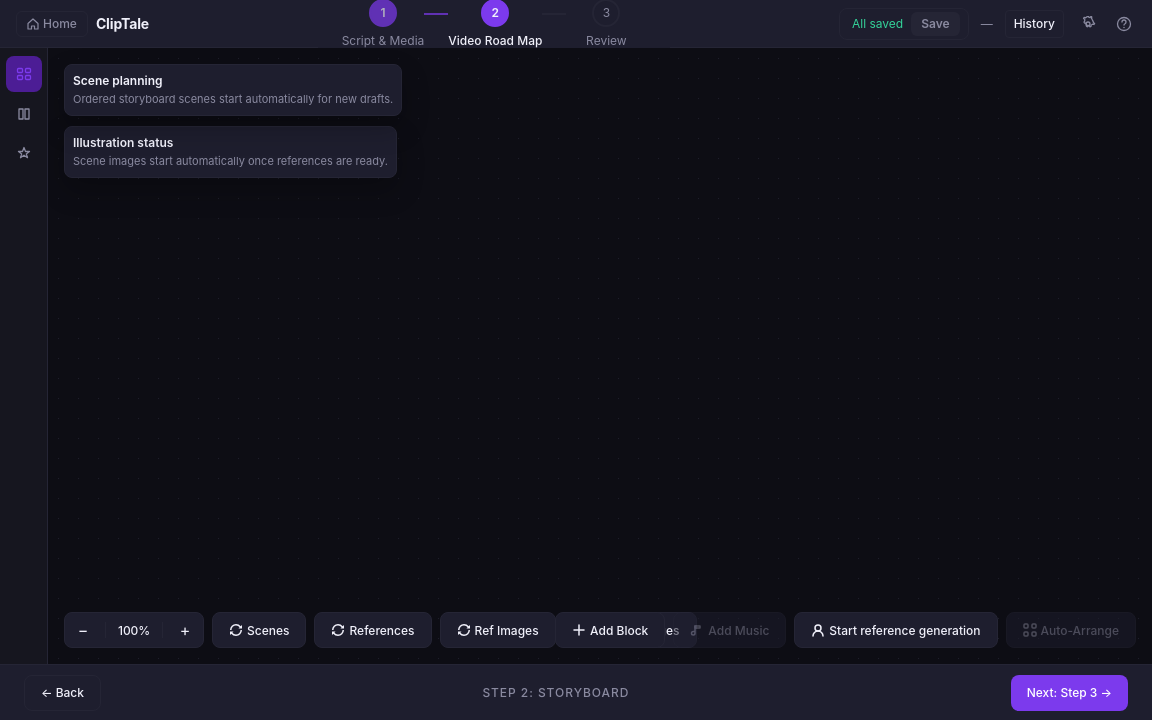
Scenario: StoryboardPage — lightweight indicator still works alongside (AC-01) › autosave indicator shows the saved state after an add
Click the button with test id "add-block-button" at (610, 630), box [555,612,665,648]
Wait 10 ms
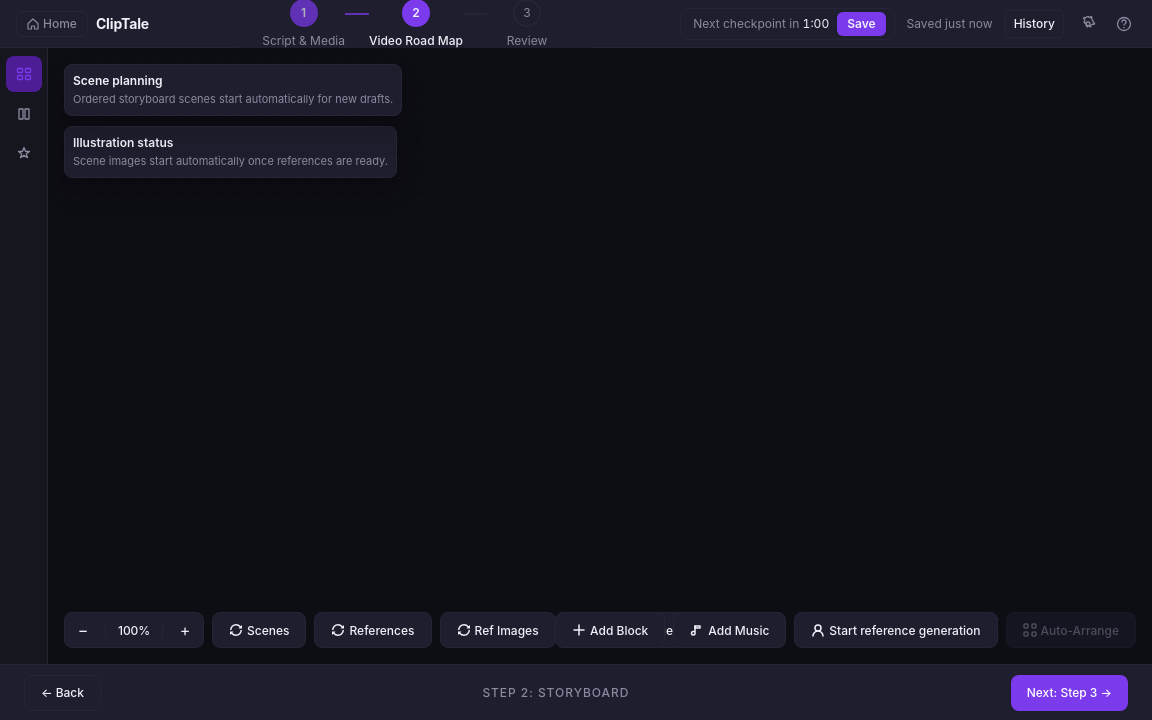
Check: the text with test id "autosave-indicator" reads "Saved just now", box [907,16,993,31]
